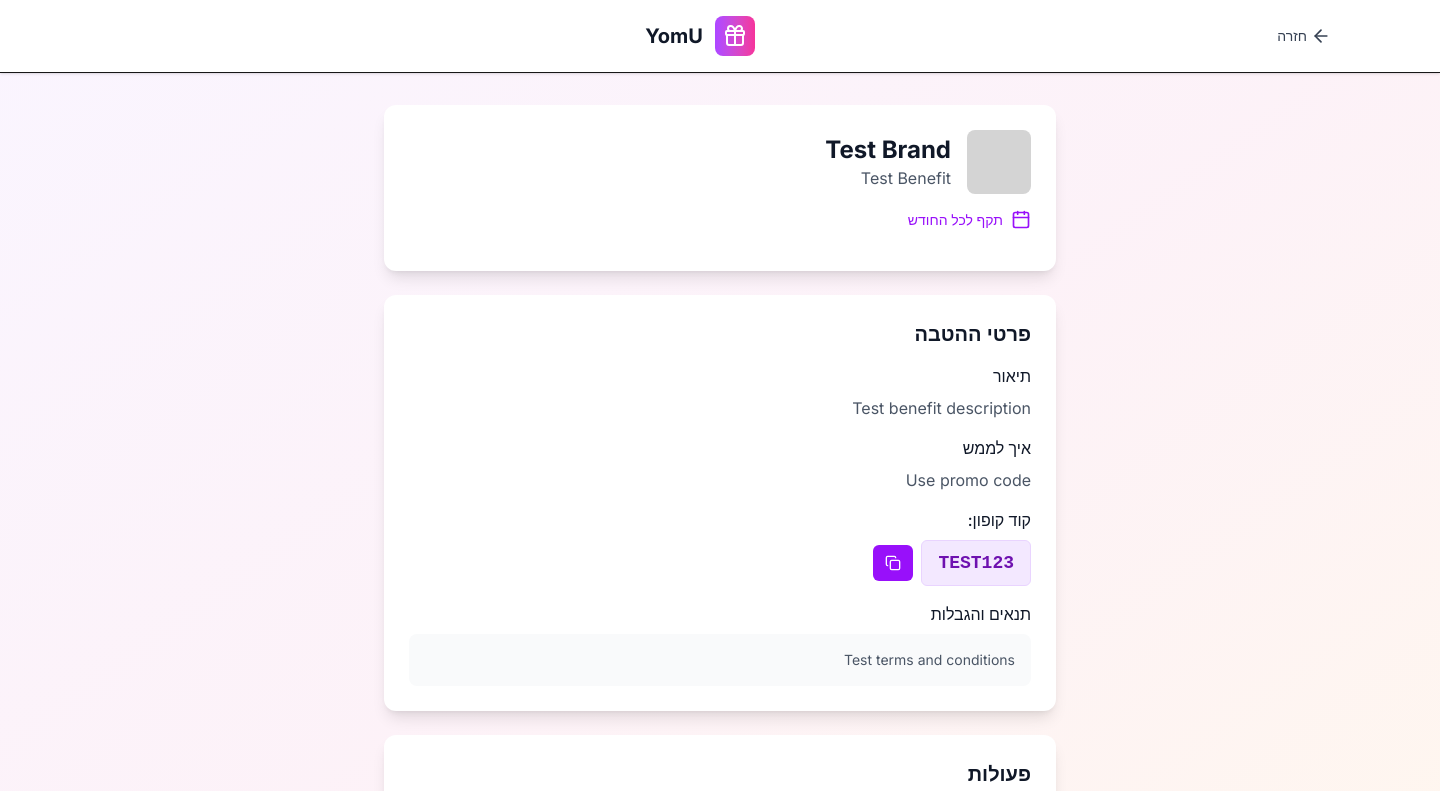
BenefitDetailPage Accessibility › should handle screen reader announcements
Expected: the text "Test Benefit" is shown, 861,168 -> 951,188
Expected: the text "TEST123" is shown, 921,540 -> 1031,586
Test copy functionality with screen reader feedback
Click the button named "העתק קוד קופון" at point(893, 563), box 873,545 -> 913,581
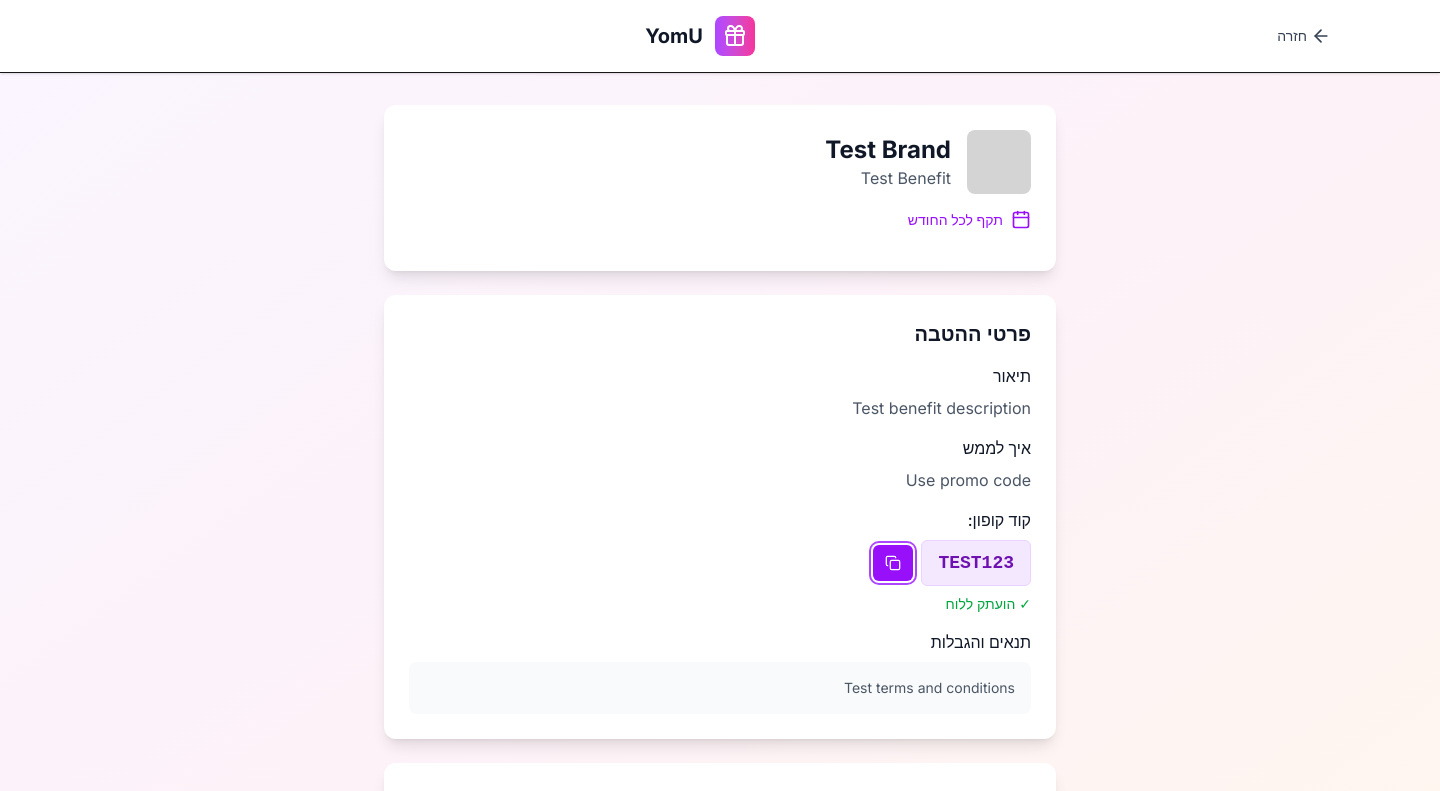
Result: the text "✓ הועתק ללוח" is shown at 946,595 -> 1031,612
